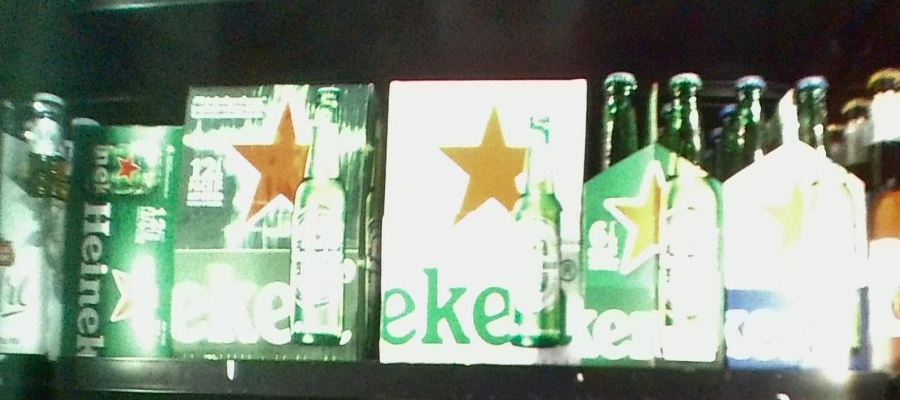bottle: (385, 78, 583, 362), (185, 83, 377, 363), (728, 70, 869, 375), (588, 71, 726, 370), (69, 124, 177, 362)
